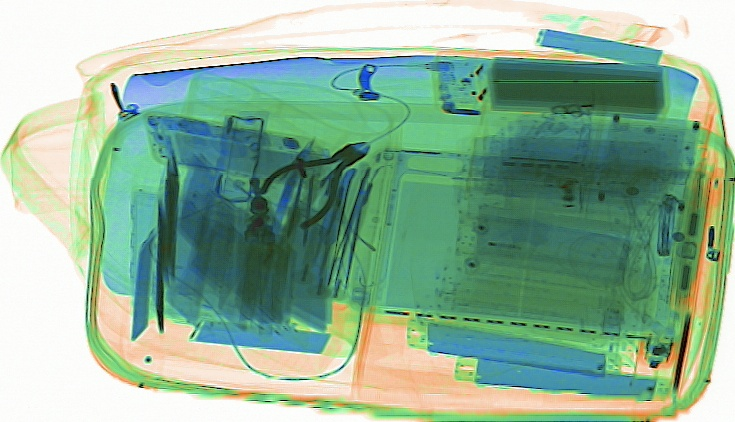powerbank: (429, 44, 672, 123)
